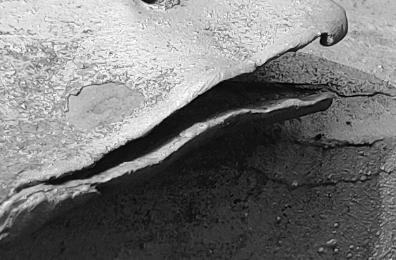crack: (1, 1, 396, 260)
